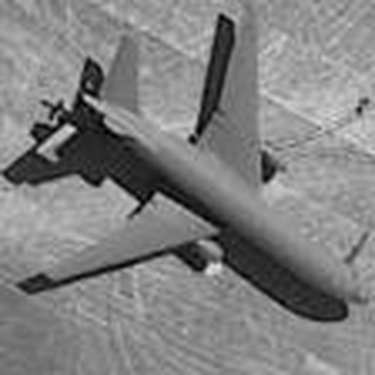airplane: (9, 2, 372, 332)
